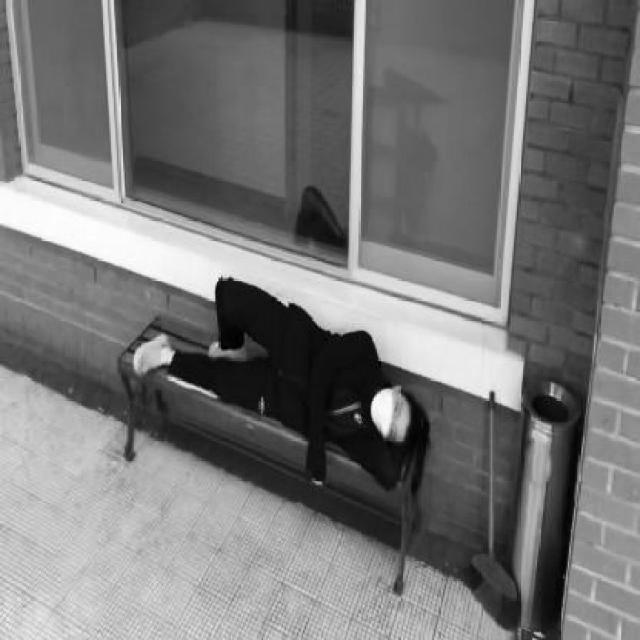person: (134, 260, 422, 514)
